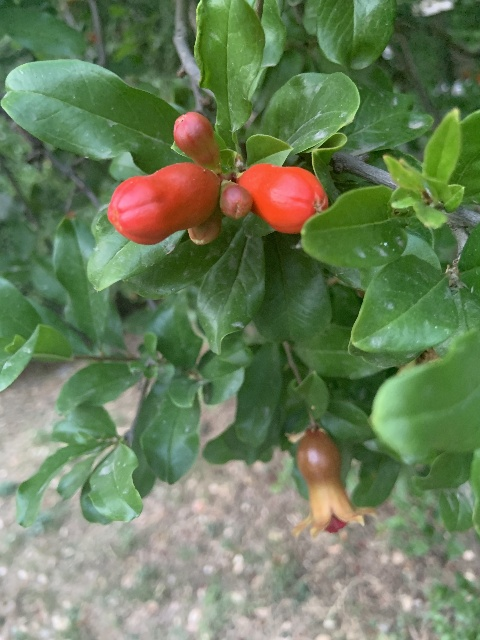bud: (106, 161, 218, 246), (235, 163, 328, 234), (173, 111, 220, 168), (189, 210, 221, 245), (220, 184, 251, 220)
early-fruit: (292, 430, 369, 537)
